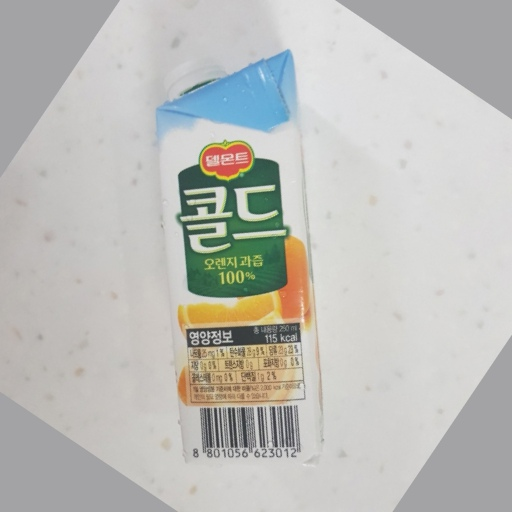Paper_0: (153, 48, 334, 484)
